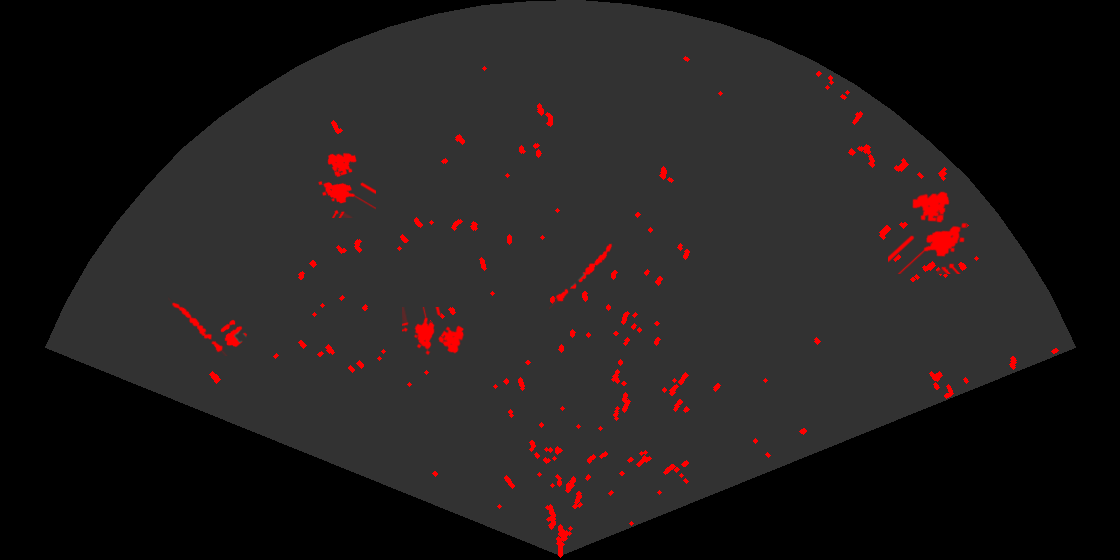ball: (219, 318, 249, 349)
cage: (888, 190, 968, 274), (317, 151, 376, 218), (402, 307, 466, 357)
chain: (549, 242, 614, 311), (168, 296, 229, 356)
